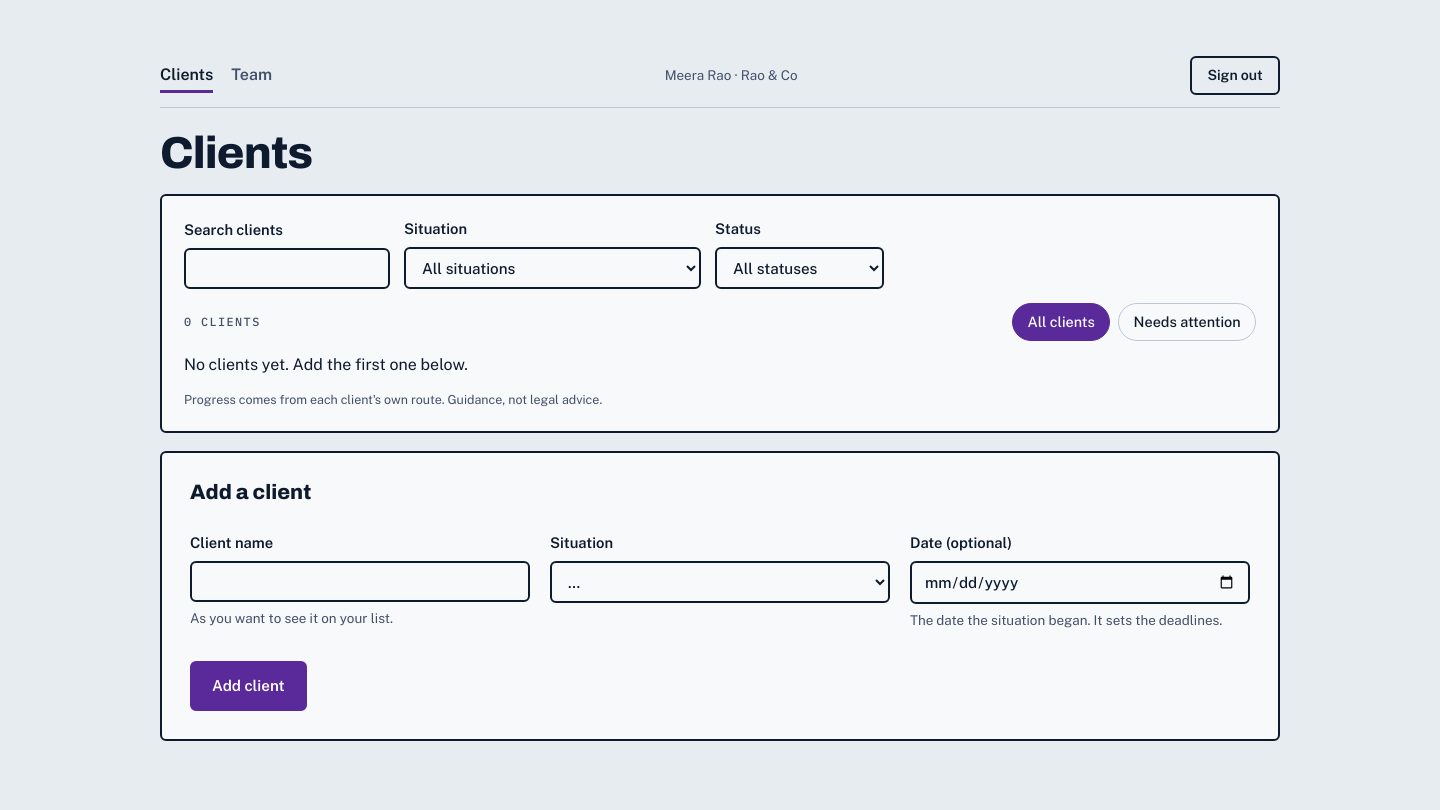
Scenario: Pro: signing in › signs out by forgetting the key in this browser
Click the button "Sign out".
click(1235, 75)  # box [1190,56,1280,95]
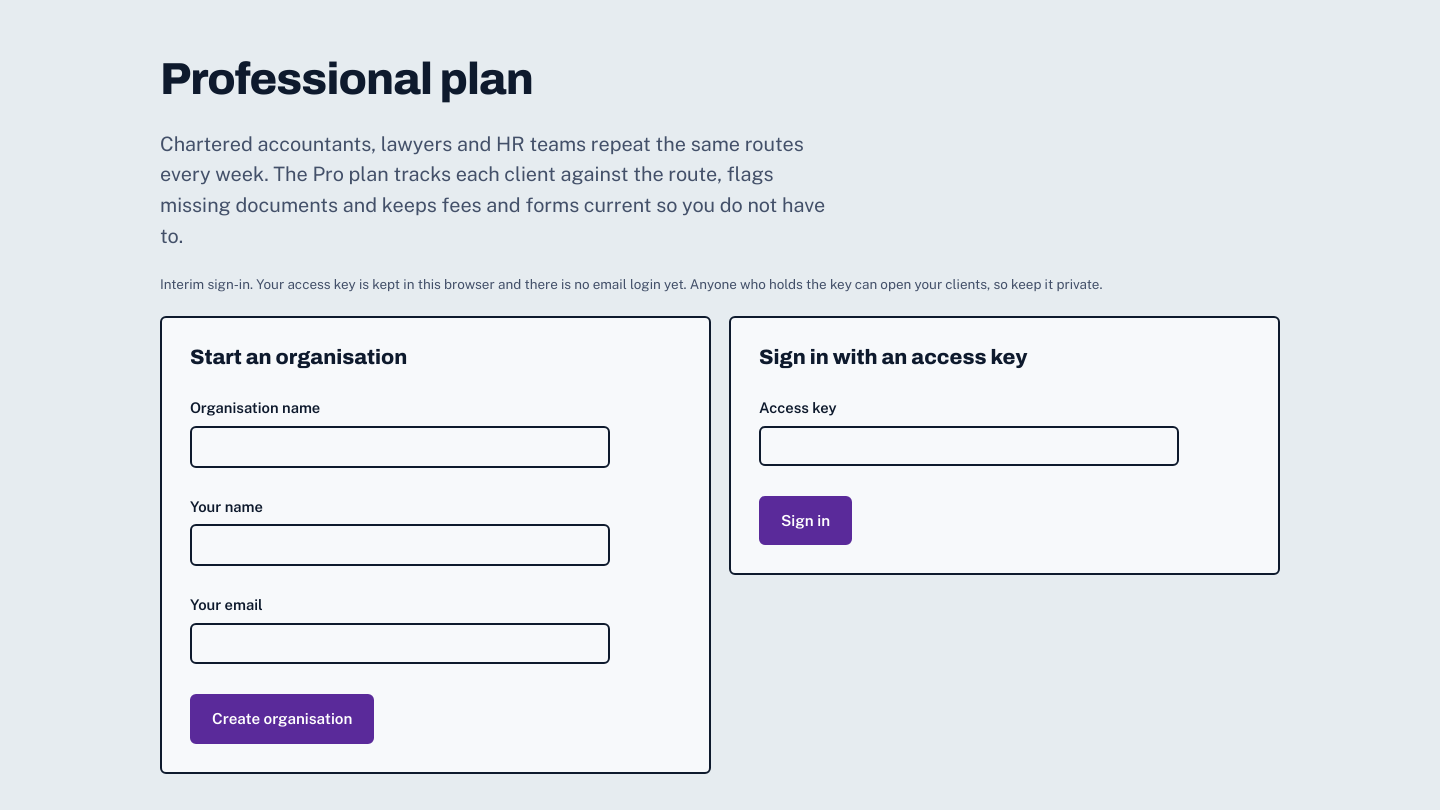
Check: the heading "Start an organisation" is shown, box [190,346,407,368]
